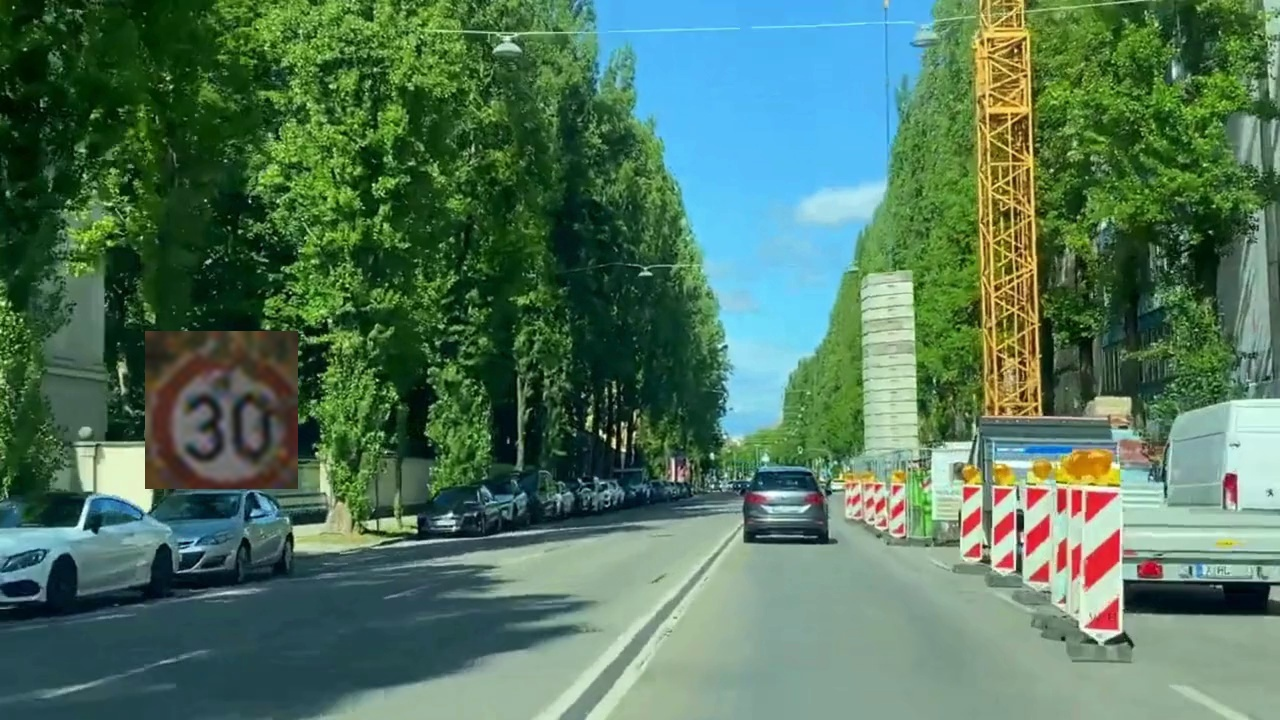Speed 30: (145, 331, 298, 489)
